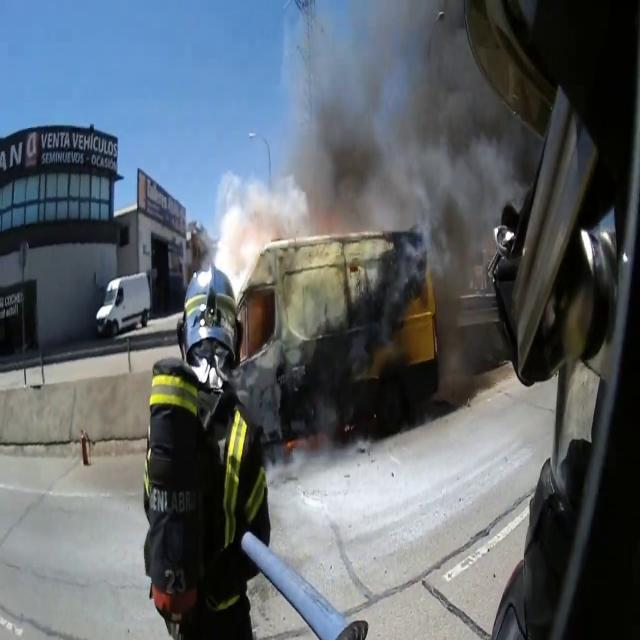Smoke: (272, 0, 510, 258), (194, 164, 288, 300)
